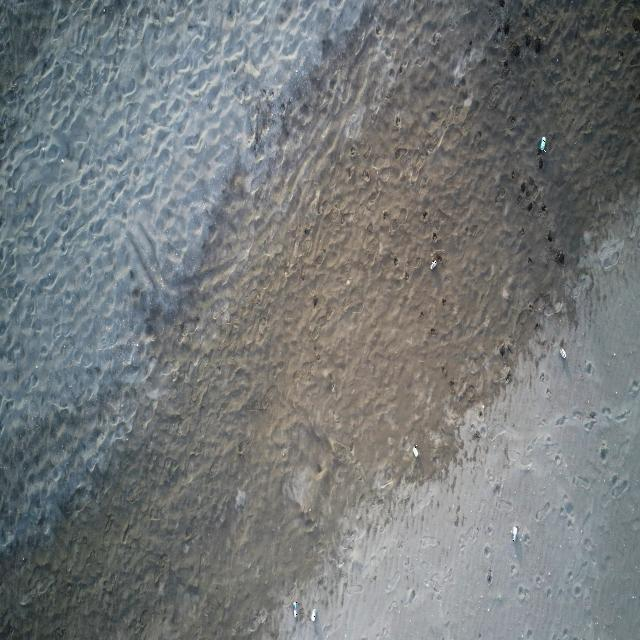tin-and-aluminum-cans: (511, 525, 519, 543), (540, 136, 546, 152), (429, 258, 438, 268), (311, 608, 317, 623), (560, 347, 566, 359), (293, 601, 297, 619), (414, 445, 419, 458)
